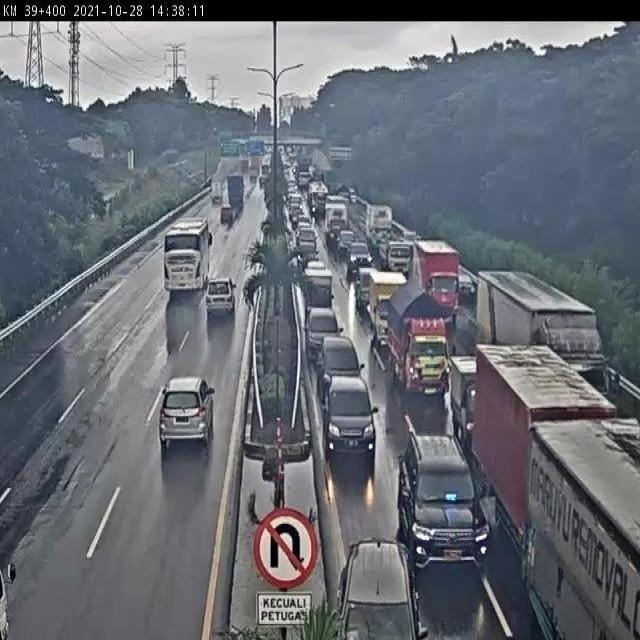ARABA: (392, 421, 491, 576), (329, 525, 415, 640), (140, 373, 217, 480), (322, 377, 380, 467), (322, 332, 364, 416), (305, 304, 347, 361), (200, 284, 239, 333), (308, 267, 332, 309)
TIR: (472, 341, 617, 616), (533, 421, 640, 640), (480, 265, 619, 403), (387, 280, 454, 396), (155, 219, 213, 305)
